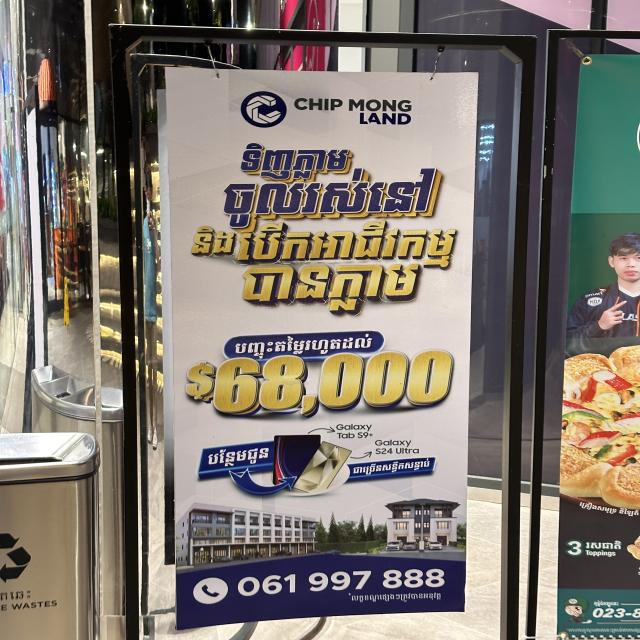168: (171, 348, 461, 415)
Yolov11kh: (206, 164, 448, 226), (181, 223, 466, 267), (218, 266, 432, 317), (228, 132, 366, 176), (226, 328, 389, 358), (188, 439, 270, 475), (347, 453, 437, 480)
